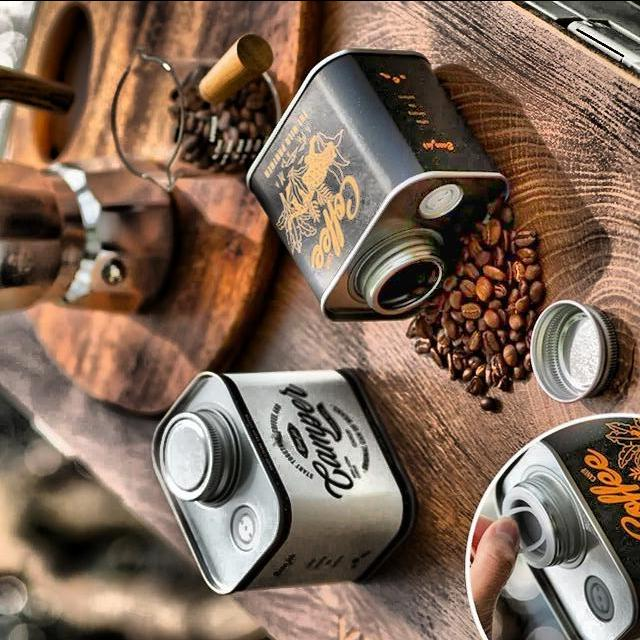Aluminum Can: (237, 38, 518, 329), (144, 362, 417, 605), (487, 414, 640, 640), (526, 291, 625, 406)
